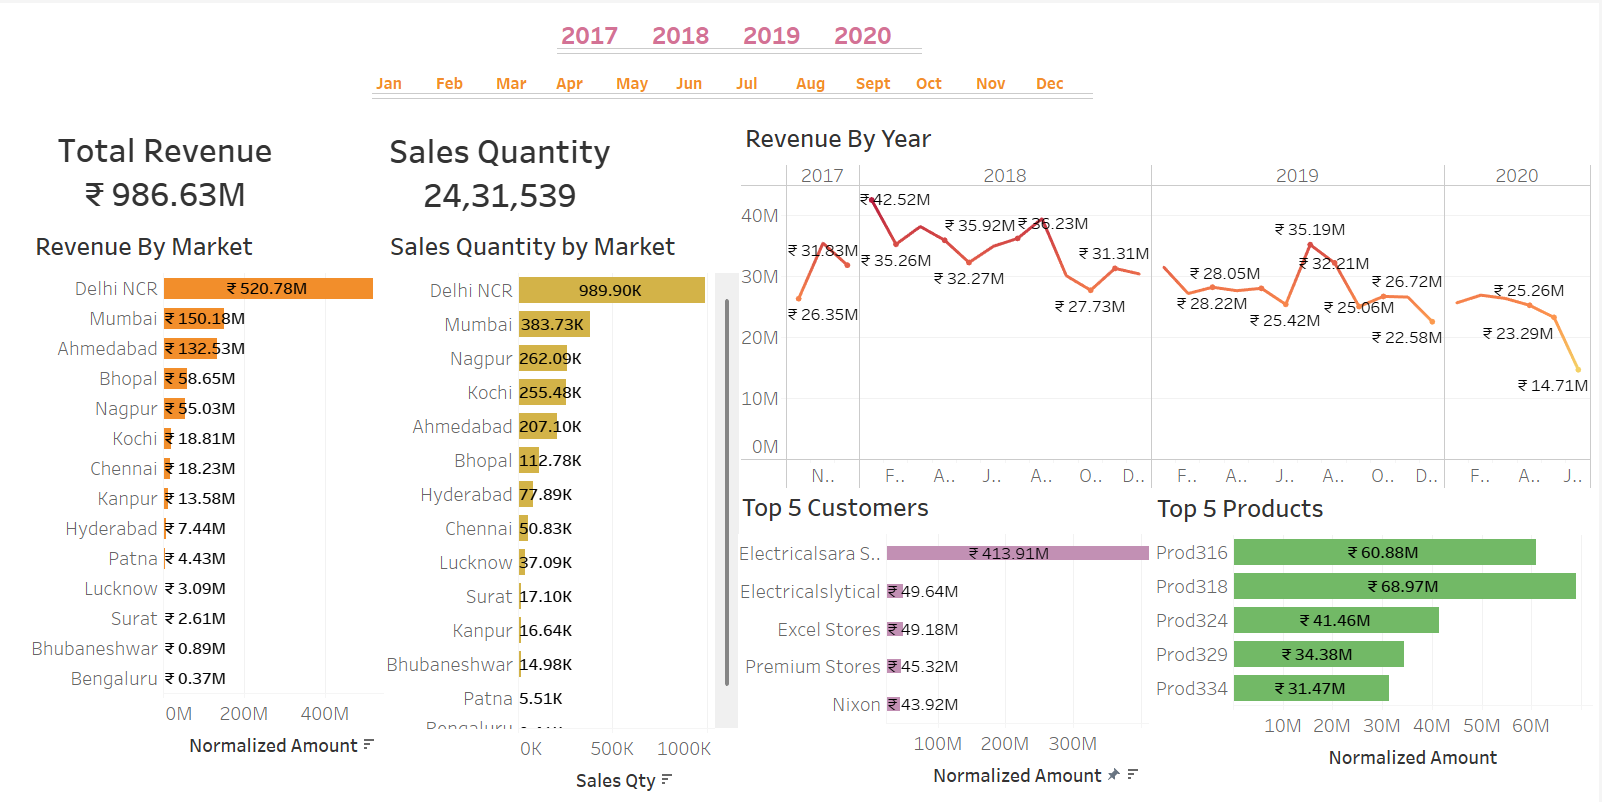

The dashboard page shown, as its layout file describes it:
{"tool":"tableau","page":{"name":"Dashboard 1","canvas":[1600,800],"ordinal":0},"visuals":[{"type":"worksheet","title":"Year","mark":"Automatic","cols":["cy_date"],"box":[557.9,17,391.5,48]},{"type":"worksheet","title":"Month","mark":"Automatic","cols":["cy_date"],"box":[373,55,780,60]},{"type":"worksheet","title":"Revenue","mark":"Automatic","box":[32,110,265,113]},{"type":"worksheet","title":"Quantity","mark":"Automatic","box":[335,110,257,110]},{"type":"worksheet","title":"Revenue By Year","mark":"Automatic","rows":["Calculation_1134062747522609152"],"cols":["cy_date","cy_date"],"box":[742,114,850,372]},{"type":"worksheet","title":"Revenue By Market","mark":"Automatic","rows":["markets_name"],"cols":["Calculation_1134062747522609152"],"box":[32,222,353,579]},{"type":"worksheet","title":"Sales Quantity by Market","mark":"Automatic","rows":["markets_name"],"cols":["sales_qty"],"box":[387,222,353,574]},{"type":"worksheet","title":"Top 5 Customers","mark":"Automatic","rows":["custmer_name"],"cols":["Calculation_1134062747522609152"],"box":[739,483,411,308]},{"type":"worksheet","title":"Top 5 Products","mark":"Automatic","rows":["product_code"],"cols":["Calculation_1134062747522609152"],"box":[1154,484,440,297]}]}

Visuals, with their boxes in screenshot pixels (x1, y1, x2, y2), scaled from the page's 1600x800 canvas onto the 1602x802 screenshot:
"Year" worksheet: <bbox>559, 17, 951, 65</bbox>
"Month" worksheet: <bbox>373, 55, 1154, 115</bbox>
"Revenue" worksheet: <bbox>32, 110, 297, 224</bbox>
"Quantity" worksheet: <bbox>335, 110, 593, 221</bbox>
"Revenue By Year" worksheet: <bbox>743, 114, 1594, 487</bbox>
"Revenue By Market" worksheet: <bbox>32, 223, 385, 801</bbox>
"Sales Quantity by Market" worksheet: <bbox>387, 223, 741, 798</bbox>
"Top 5 Customers" worksheet: <bbox>740, 484, 1151, 793</bbox>
"Top 5 Products" worksheet: <bbox>1155, 485, 1596, 783</bbox>
